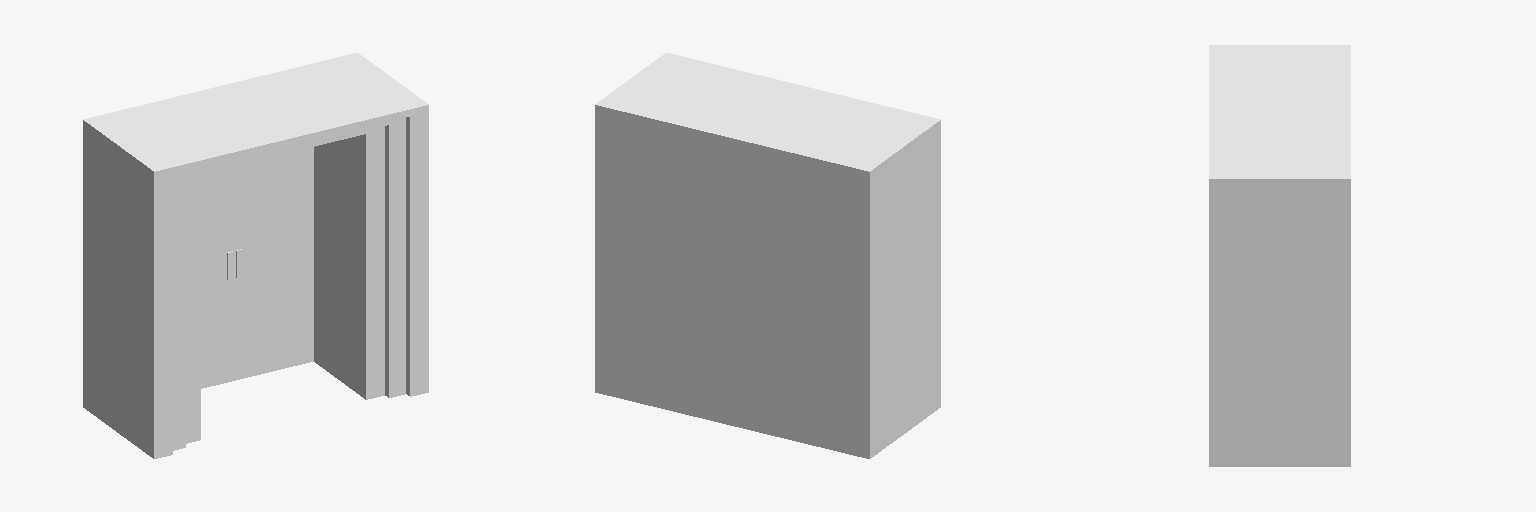
Rendered from entrance2-1-lod2.obj.
3 renders of one model, left to right at view 1: azimuth 30°, elevation 25°; view 2: azimuth 150°, elevation 25°; view 3: azimuth 270°, elevation 25°, orthographic.
Visible parts, largest first — view 1: lod2; view 2: lod2; view 3: lod2.
Part boxes in pixels (x1,y1,x2,y2): lod2: (83, 53, 428, 458); lod2: (595, 53, 940, 458); lod2: (1209, 45, 1350, 466).
Size of the model in its own units: 16 by 16 by 7.2.